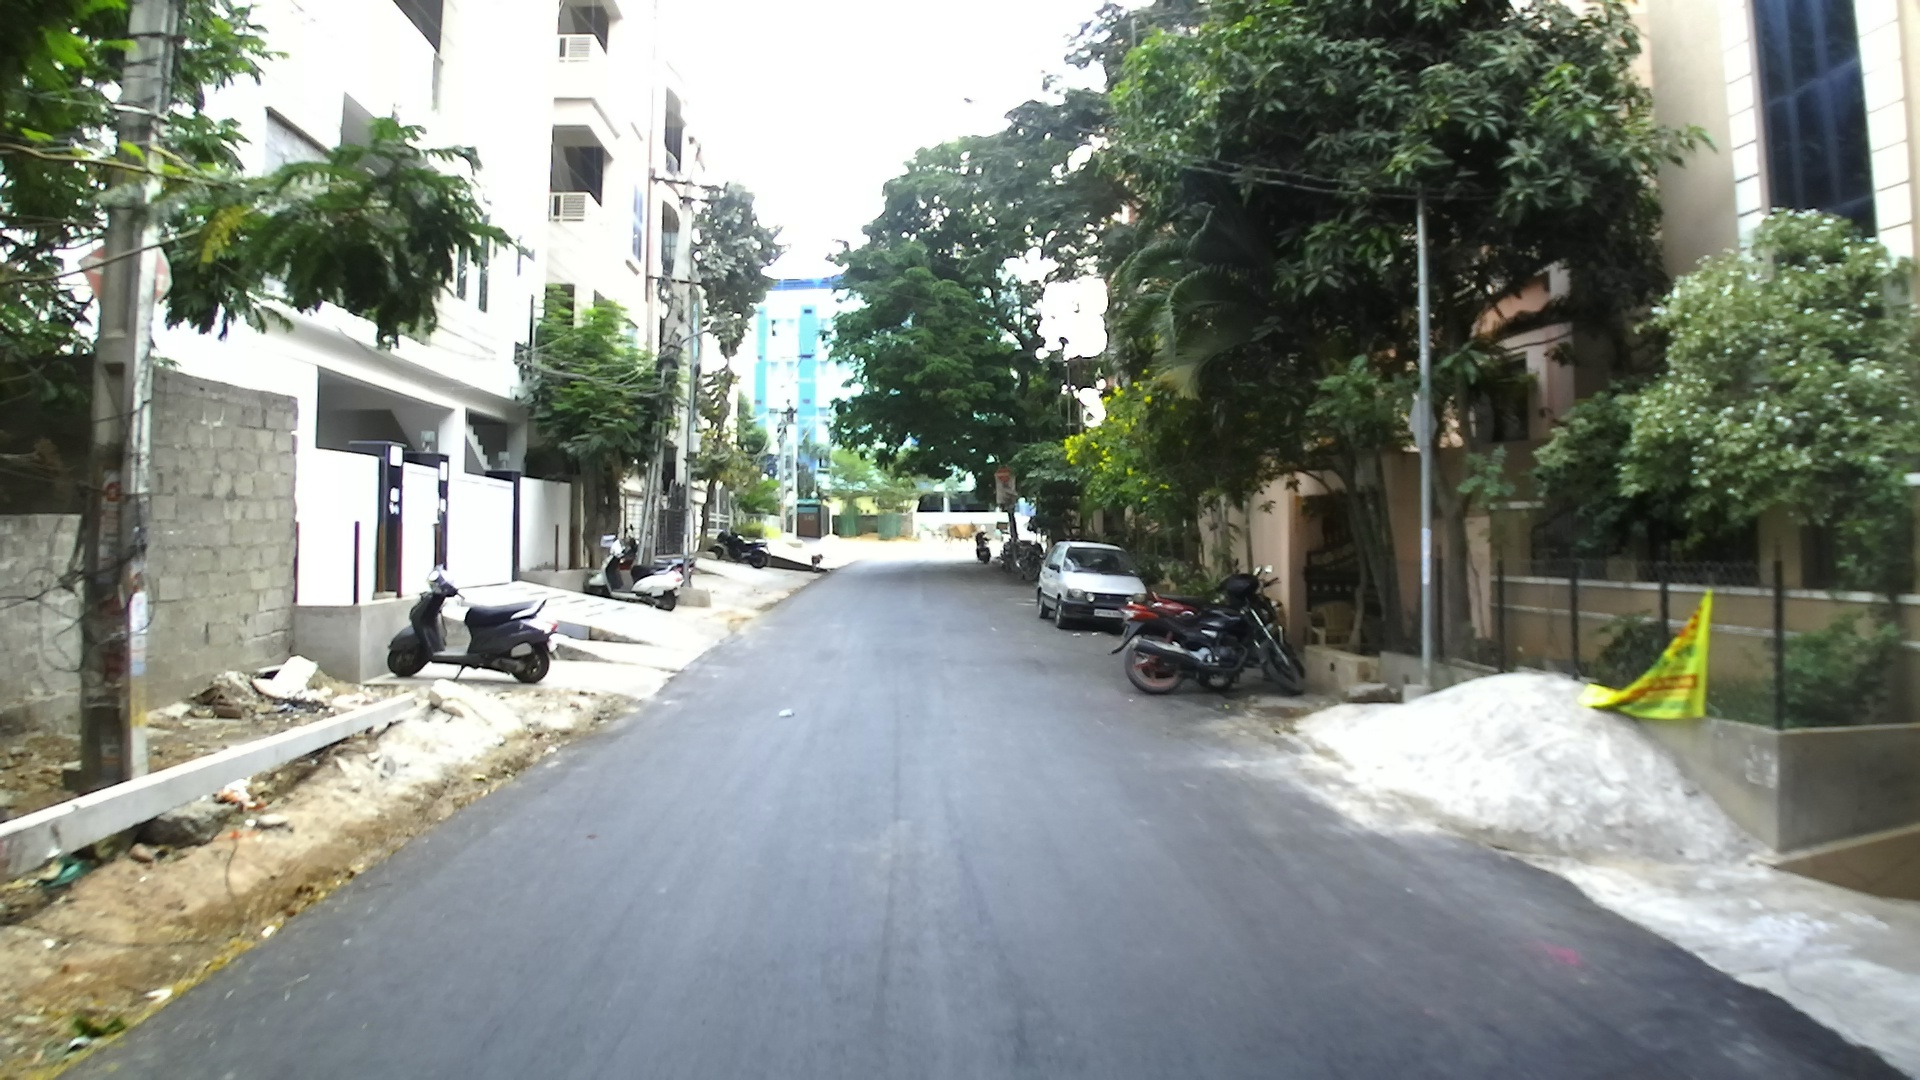vehicle: (1120, 574, 1305, 699), (1035, 542, 1151, 632)
